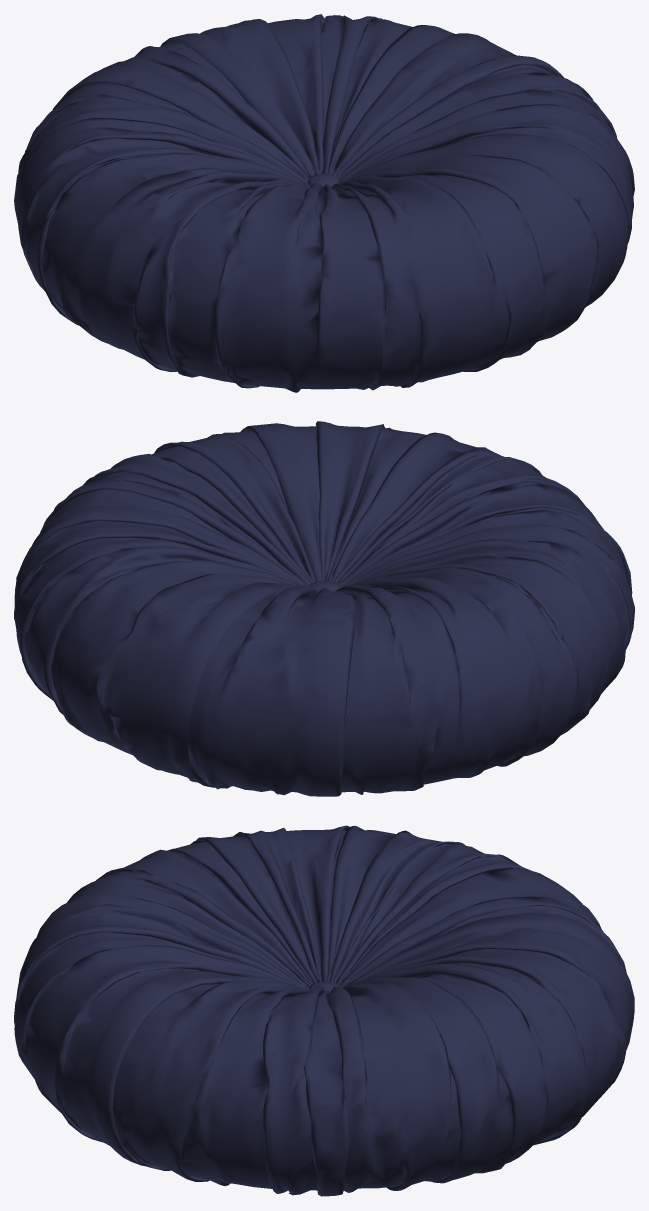
File: silk-pouf.glb
3 views of the same model, one above another, from view 1: azimuth 30°, elevation 25°; view 2: azimuth 150°, elevation 25°; view 3: azimuth 270°, elevation 25° (orthographic).
Parts seen in each view (by area): view 1: SpecularSilkPouf; view 2: SpecularSilkPouf; view 3: SpecularSilkPouf.
Part boxes in pixels (left/top/right/bottom): SpecularSilkPouf: left=14, top=14, right=634, bottom=392; SpecularSilkPouf: left=14, top=421, right=634, bottom=796; SpecularSilkPouf: left=14, top=825, right=634, bottom=1196.
Bounding box in the file's own units: 0.6099 × 0.1978 × 0.6096.
